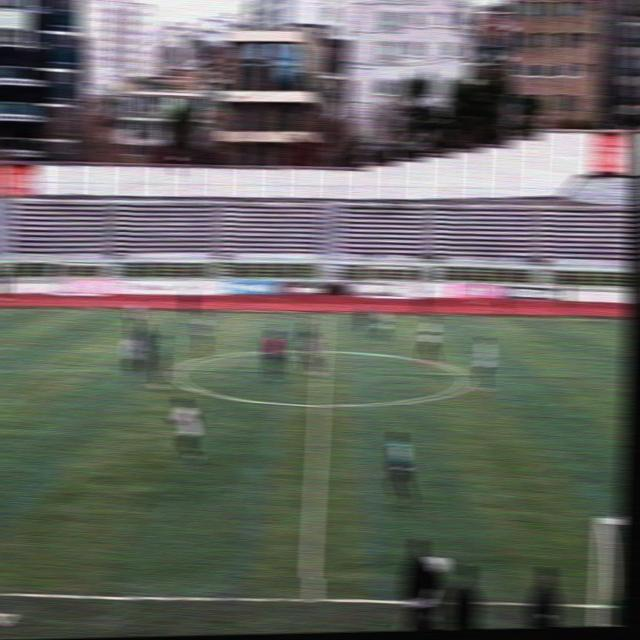halfcircle_bottom: (310, 397, 328, 413)
halfcircle_top: (315, 343, 329, 358)
midline_bottom_intersection: (294, 577, 327, 616)
midline_top_intersection: (317, 310, 332, 320)
